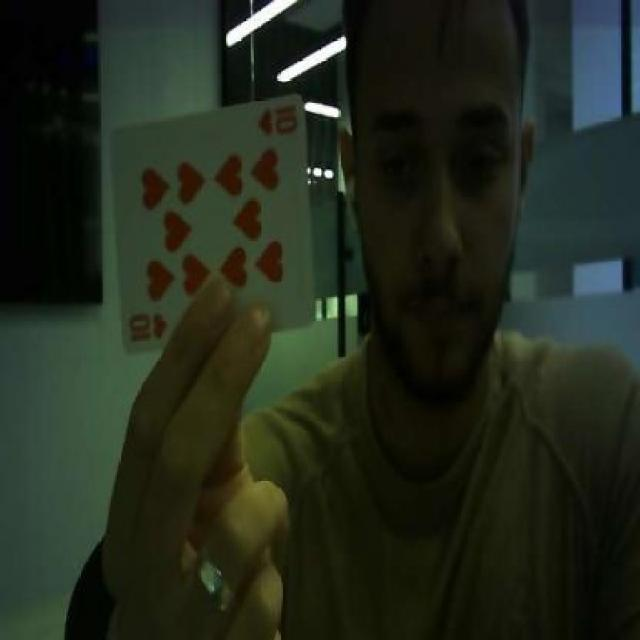10H: (256, 98, 296, 137), (127, 309, 167, 342)
